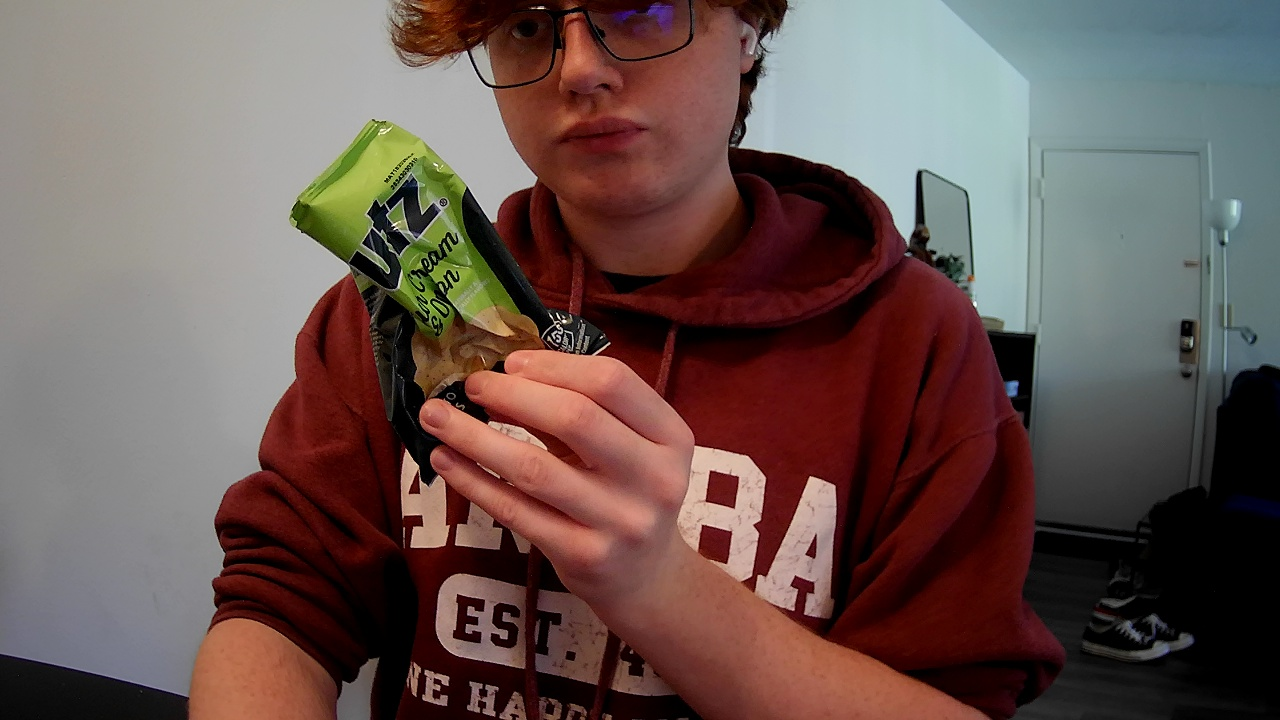trash: (289, 137, 632, 465)
